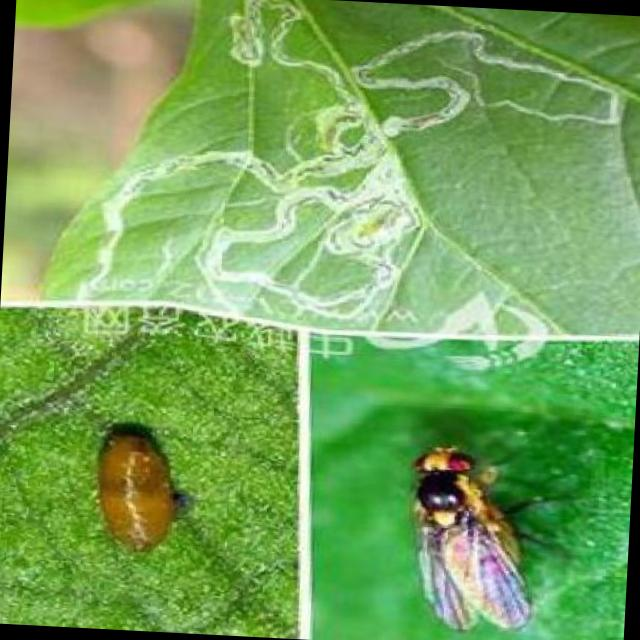whorl-maggot: (73, 409, 204, 563)
